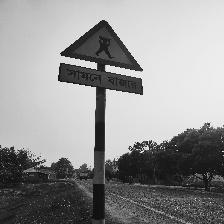Market-in-front: (59, 20, 145, 96)
